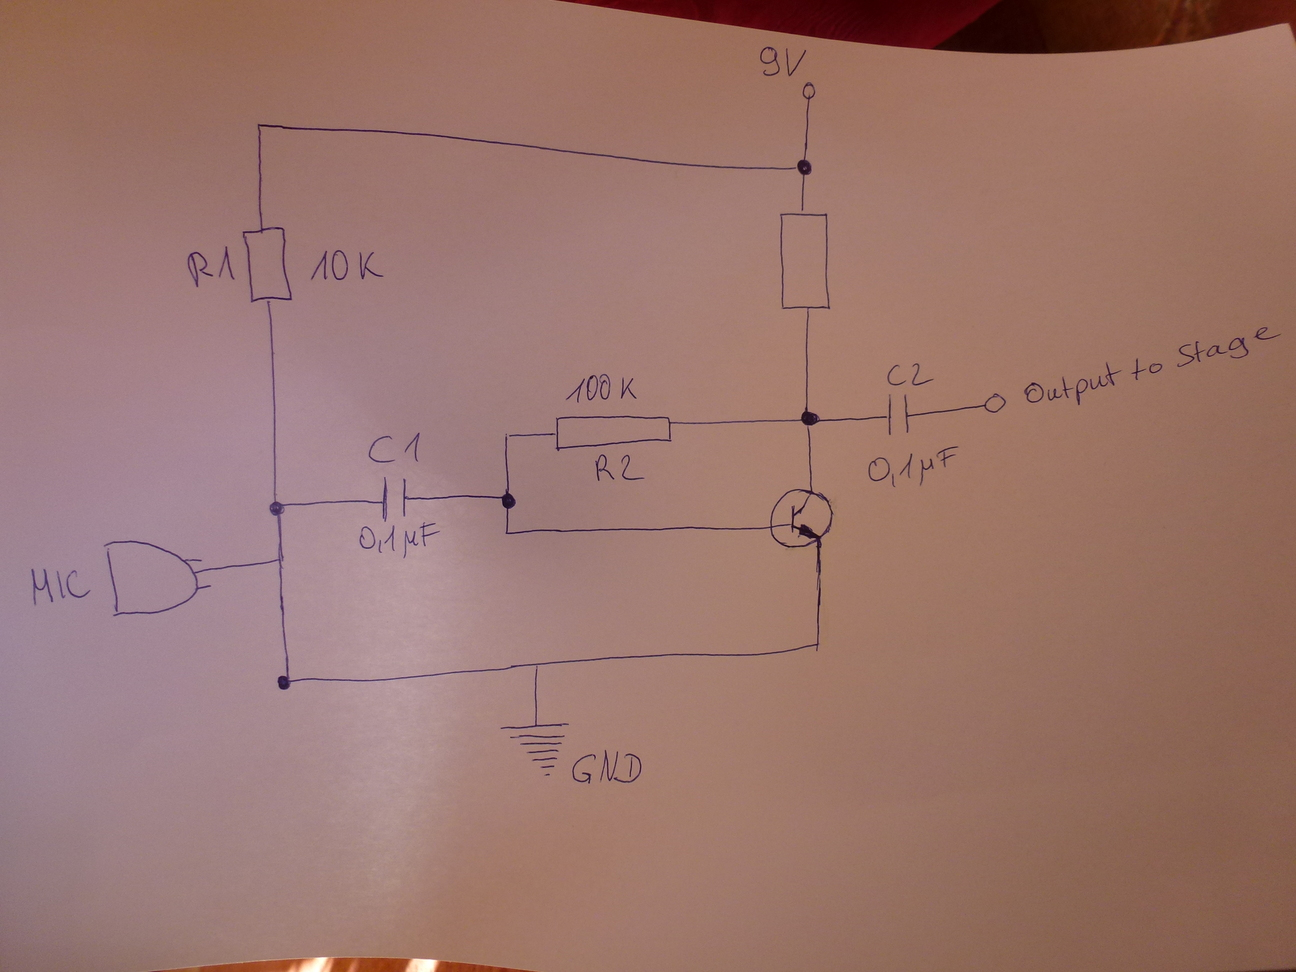capacitor.unpolarized: (373, 475, 413, 526), (883, 391, 912, 438)
gnd: (500, 716, 574, 776)
junction: (795, 405, 825, 431), (265, 496, 290, 519), (273, 671, 298, 693), (792, 157, 815, 179), (805, 634, 825, 657), (499, 488, 516, 512), (528, 657, 545, 672), (271, 551, 288, 566), (500, 429, 513, 443), (252, 118, 266, 132), (502, 525, 513, 540)
microphone: (102, 537, 214, 619)
resistor: (774, 210, 832, 315), (552, 407, 670, 451), (240, 224, 294, 303)
terminal: (980, 391, 1008, 415), (798, 79, 819, 102)
text: (1023, 324, 1282, 406), (866, 445, 960, 491), (355, 519, 439, 558), (567, 746, 647, 786), (306, 246, 387, 284), (28, 562, 88, 607), (561, 373, 642, 406), (181, 244, 237, 288), (365, 429, 426, 465), (755, 41, 809, 79), (591, 451, 645, 485), (884, 360, 935, 388)
transistor: (764, 483, 837, 550)
